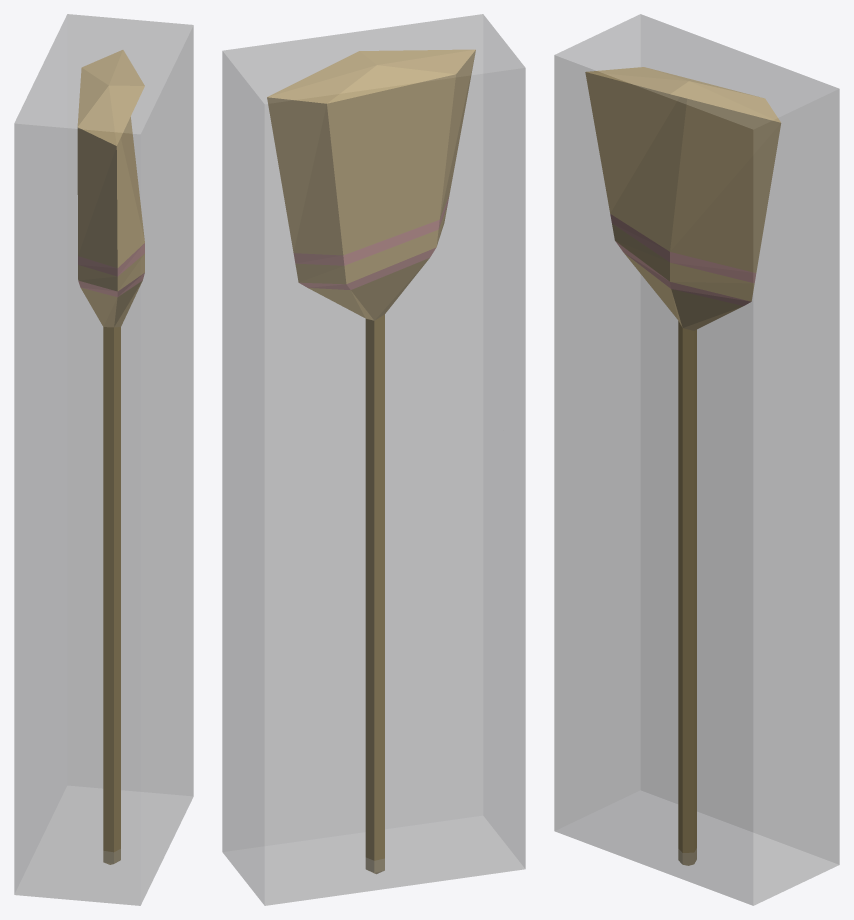
Rendered from weapon_broom.fbx.
3 views of the same model, side by side, from view 1: azimuth 30°, elevation 25°; view 2: azimuth 150°, elevation 25°; view 3: azimuth 270°, elevation 25° (orthographic). The views are drawn at different scales.
Visible parts, largest first — view 1: simple, weapon3broom; view 2: simple, weapon3broom; view 3: simple, weapon3broom.
Part boxes in pixels (bbox=[...]): simple: bbox=[14, 14, 193, 905]; weapon3broom: bbox=[77, 50, 144, 864]; simple: bbox=[222, 14, 525, 905]; weapon3broom: bbox=[267, 49, 475, 873]; simple: bbox=[554, 14, 839, 905]; weapon3broom: bbox=[585, 67, 781, 865].
Bounding box in the file's own units: 0.4177 × 1.33 × 0.4352.
